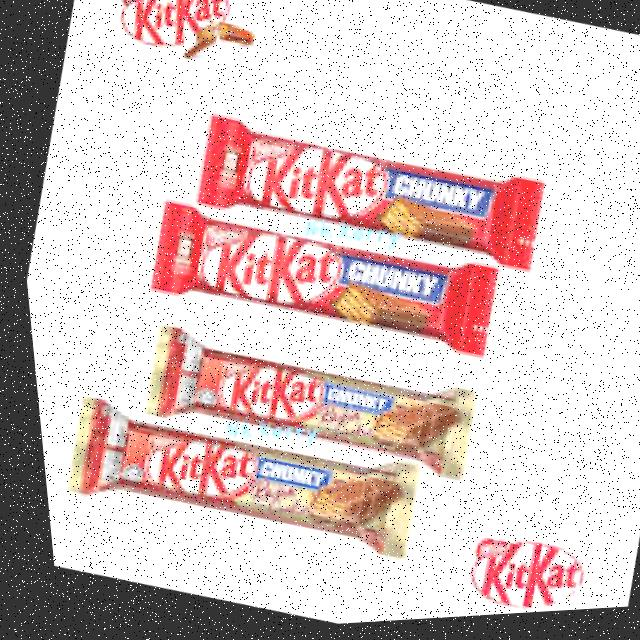kitkat: (48, 381, 416, 579), (133, 184, 503, 376), (188, 101, 553, 292), (125, 310, 477, 500)
